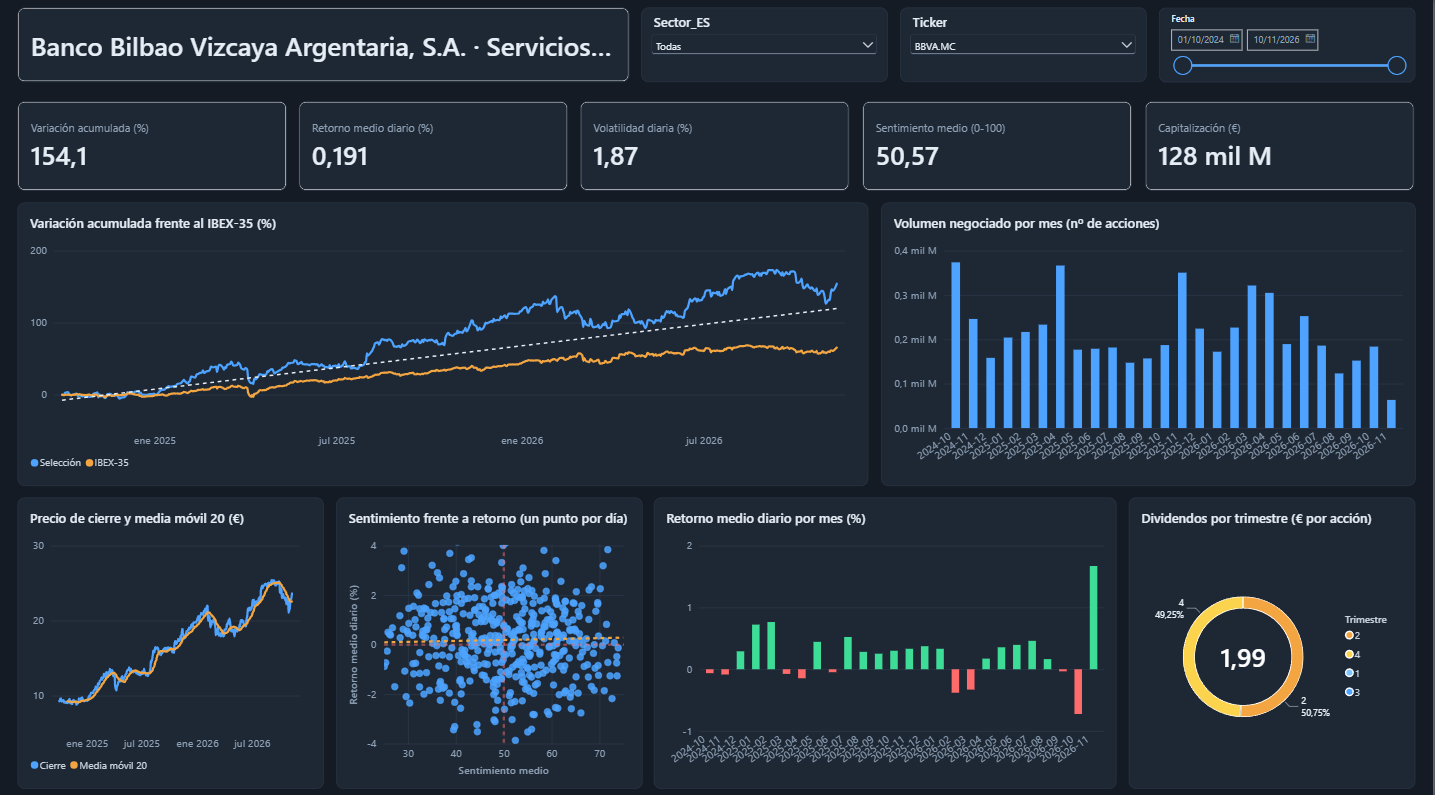

The dashboard page shown, as its layout file describes it:
{"tool":"powerbi","page":{"name":"Dashboard","canvas":[1920,1080],"ordinal":3},"visuals":[{"type":"slicer","fields":{"Values":["Empresa.Sector_ES"]},"box":[753.5,31.4,280.8,68],"z":0},{"type":"slicer","fields":{"Values":["Empresa.Ticker"]},"box":[1055.2,26.2,280.8,80.2],"z":1000},{"type":"slicer","fields":{"Values":["Fecha.Fecha"]},"box":[1360.5,19.2,280.8,95.9],"z":2000},{"type":"cardVisual","fields":{"Data":["Hechos.Variacion Acumulada"]},"box":[36.6,115.1,218,174.4],"z":3000},{"type":"cardVisual","fields":{"Data":["Hechos.Retorno Medio Diario"]},"box":[375,115.1,218,174.4],"z":4000},{"type":"cardVisual","fields":{"Data":["Hechos.Volatilidad Diaria"]},"box":[741.3,115.1,218,174.4],"z":5000},{"type":"cardVisual","fields":{"Data":["Hechos.Sentimiento Medio"]},"box":[1088.4,115.1,218,174.4],"z":6000},{"type":"cardVisual","fields":{"Data":["Hechos.Capitalizacion Total"]},"box":[1447.7,115.1,218,174.4],"z":7000},{"type":"lineChart","fields":{"Category":["Fecha.Fecha"],"Y":["Hechos.Var Acum Seleccion","Hechos.Var Acum IBEX"]},"box":[43.6,314,1058.7,376.7],"z":8000},{"type":"clusteredColumnChart","fields":{"Category":["Fecha.AnioMes"],"Y":["Sum(Hechos.Volume)"]},"box":[1133.7,314,736,376.7],"z":9000},{"type":"lineChart","fields":{"Category":["Fecha.Fecha"],"Y":["Avg(Hechos.Close)","Avg(Hechos.Media_Movil_20)"]},"box":[66.3,711.6,395.9,322.7],"z":10000},{"type":"scatterChart","fields":{"Category":["Fecha.Fecha"],"X":["Hechos.Sentimiento Medio"],"Y":["Hechos.Retorno Medio Diario"]},"box":[462.2,711.6,444.8,322.7],"z":11000},{"type":"clusteredColumnChart","fields":{"Category":["Fecha.AnioMes"],"Y":["Hechos.Retorno Medio Diario"]},"box":[907,711.6,610.5,322.7],"z":12000},{"type":"donutChart","fields":{"Category":["Fecha.Trimestre"],"Y":["Sum(Hechos.Dividends)"]},"box":[1517.4,711.6,385.5,322.7],"z":13000},{"type":"cardVisual","fields":{"Data":["Hechos.Titulo Dashboard"]},"box":[66.3,19.2,556.4,75],"z":13001}]}

Visuals, with their boxes in screenshot pixels (x1, y1, x2, y2), scaled from the page's 1920x1080 canvas onto the 1435x795 screenshot:
slicer - Empresa.Sector_ES: (x1=563, y1=23, x2=773, y2=73)
slicer - Empresa.Ticker: (x1=789, y1=19, x2=999, y2=78)
slicer - Fecha.Fecha: (x1=1017, y1=14, x2=1227, y2=85)
cardVisual - Hechos.Variacion Acumulada: (x1=27, y1=85, x2=190, y2=213)
cardVisual - Hechos.Retorno Medio Diario: (x1=280, y1=85, x2=443, y2=213)
cardVisual - Hechos.Volatilidad Diaria: (x1=554, y1=85, x2=717, y2=213)
cardVisual - Hechos.Sentimiento Medio: (x1=813, y1=85, x2=976, y2=213)
cardVisual - Hechos.Capitalizacion Total: (x1=1082, y1=85, x2=1245, y2=213)
lineChart - Fecha.Fecha x Hechos.Var Acum Seleccion: (x1=33, y1=231, x2=824, y2=508)
clusteredColumnChart - Fecha.AnioMes x Sum(Hechos.Volume): (x1=847, y1=231, x2=1397, y2=508)
lineChart - Fecha.Fecha x Avg(Hechos.Close): (x1=50, y1=524, x2=345, y2=761)
scatterChart - Fecha.Fecha x Hechos.Sentimiento Medio: (x1=345, y1=524, x2=678, y2=761)
clusteredColumnChart - Fecha.AnioMes x Hechos.Retorno Medio Diario: (x1=678, y1=524, x2=1134, y2=761)
donutChart - Fecha.Trimestre x Sum(Hechos.Dividends): (x1=1134, y1=524, x2=1422, y2=761)
cardVisual - Hechos.Titulo Dashboard: (x1=50, y1=14, x2=465, y2=69)
